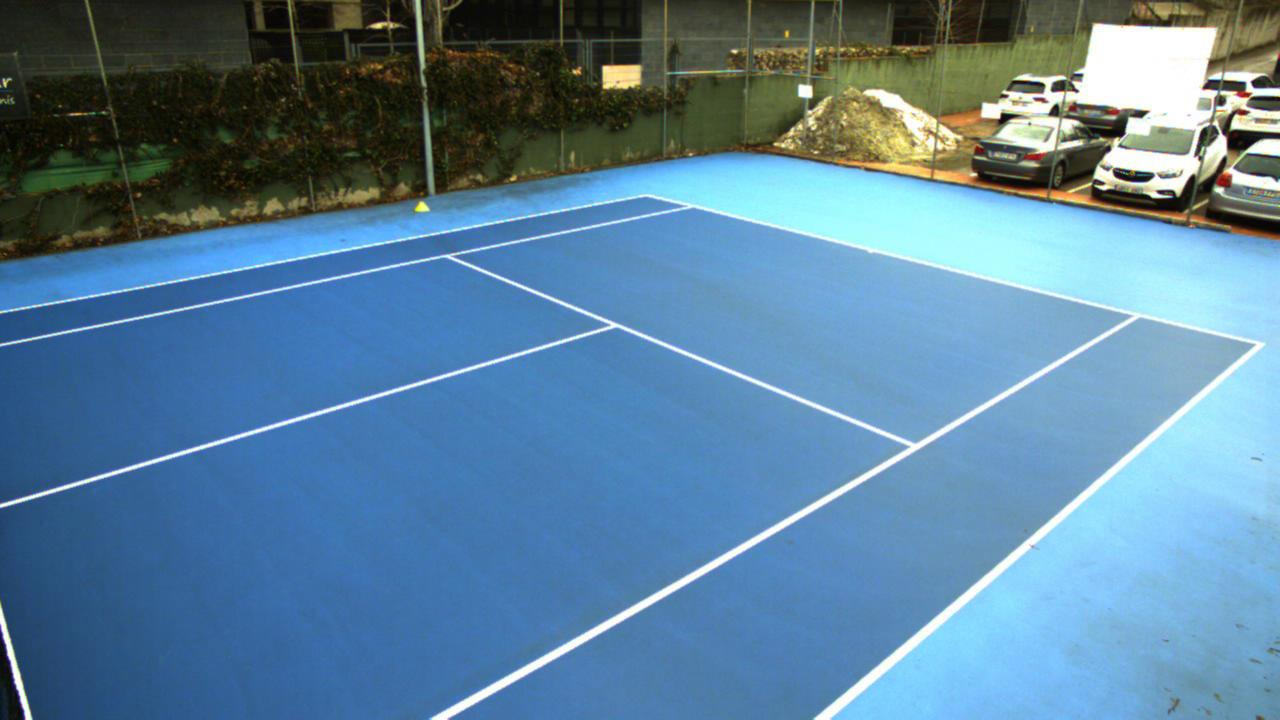cancha_tenis: (0, 206, 1143, 720)
point_f1: (676, 195, 708, 218)
point_f2: (1123, 303, 1148, 327)
point_fc1: (864, 243, 879, 261)
point_i1: (438, 245, 462, 267)
point_i2: (897, 434, 926, 459)
point_ic1: (593, 309, 631, 339)
